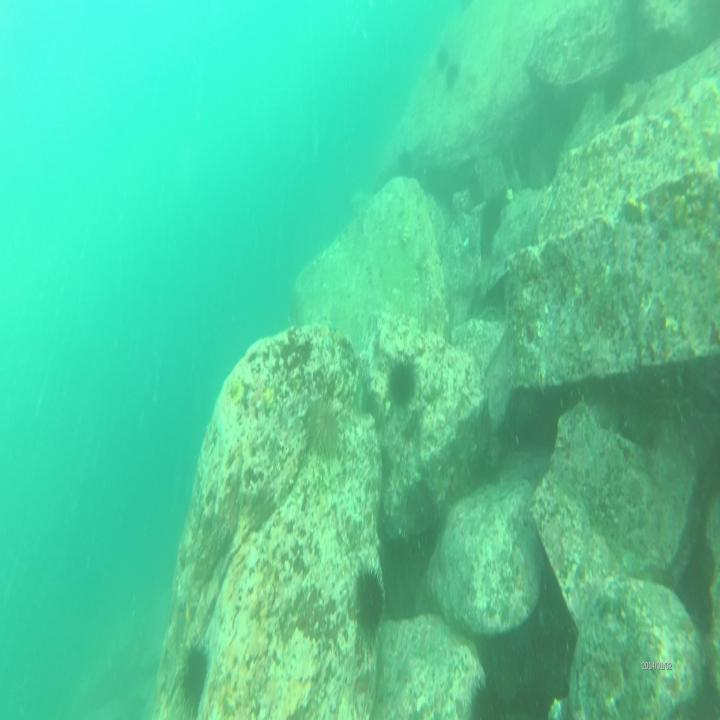echinus: (306, 402, 342, 456), (354, 567, 383, 624), (178, 643, 207, 694), (386, 353, 412, 401), (445, 61, 462, 88), (433, 45, 450, 70)
